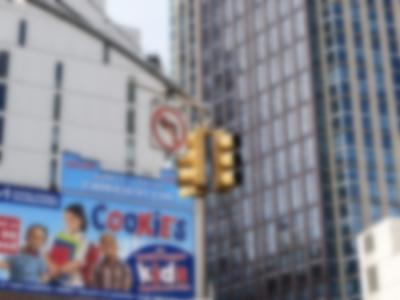International Road Signal Light: (176, 125, 237, 199)
